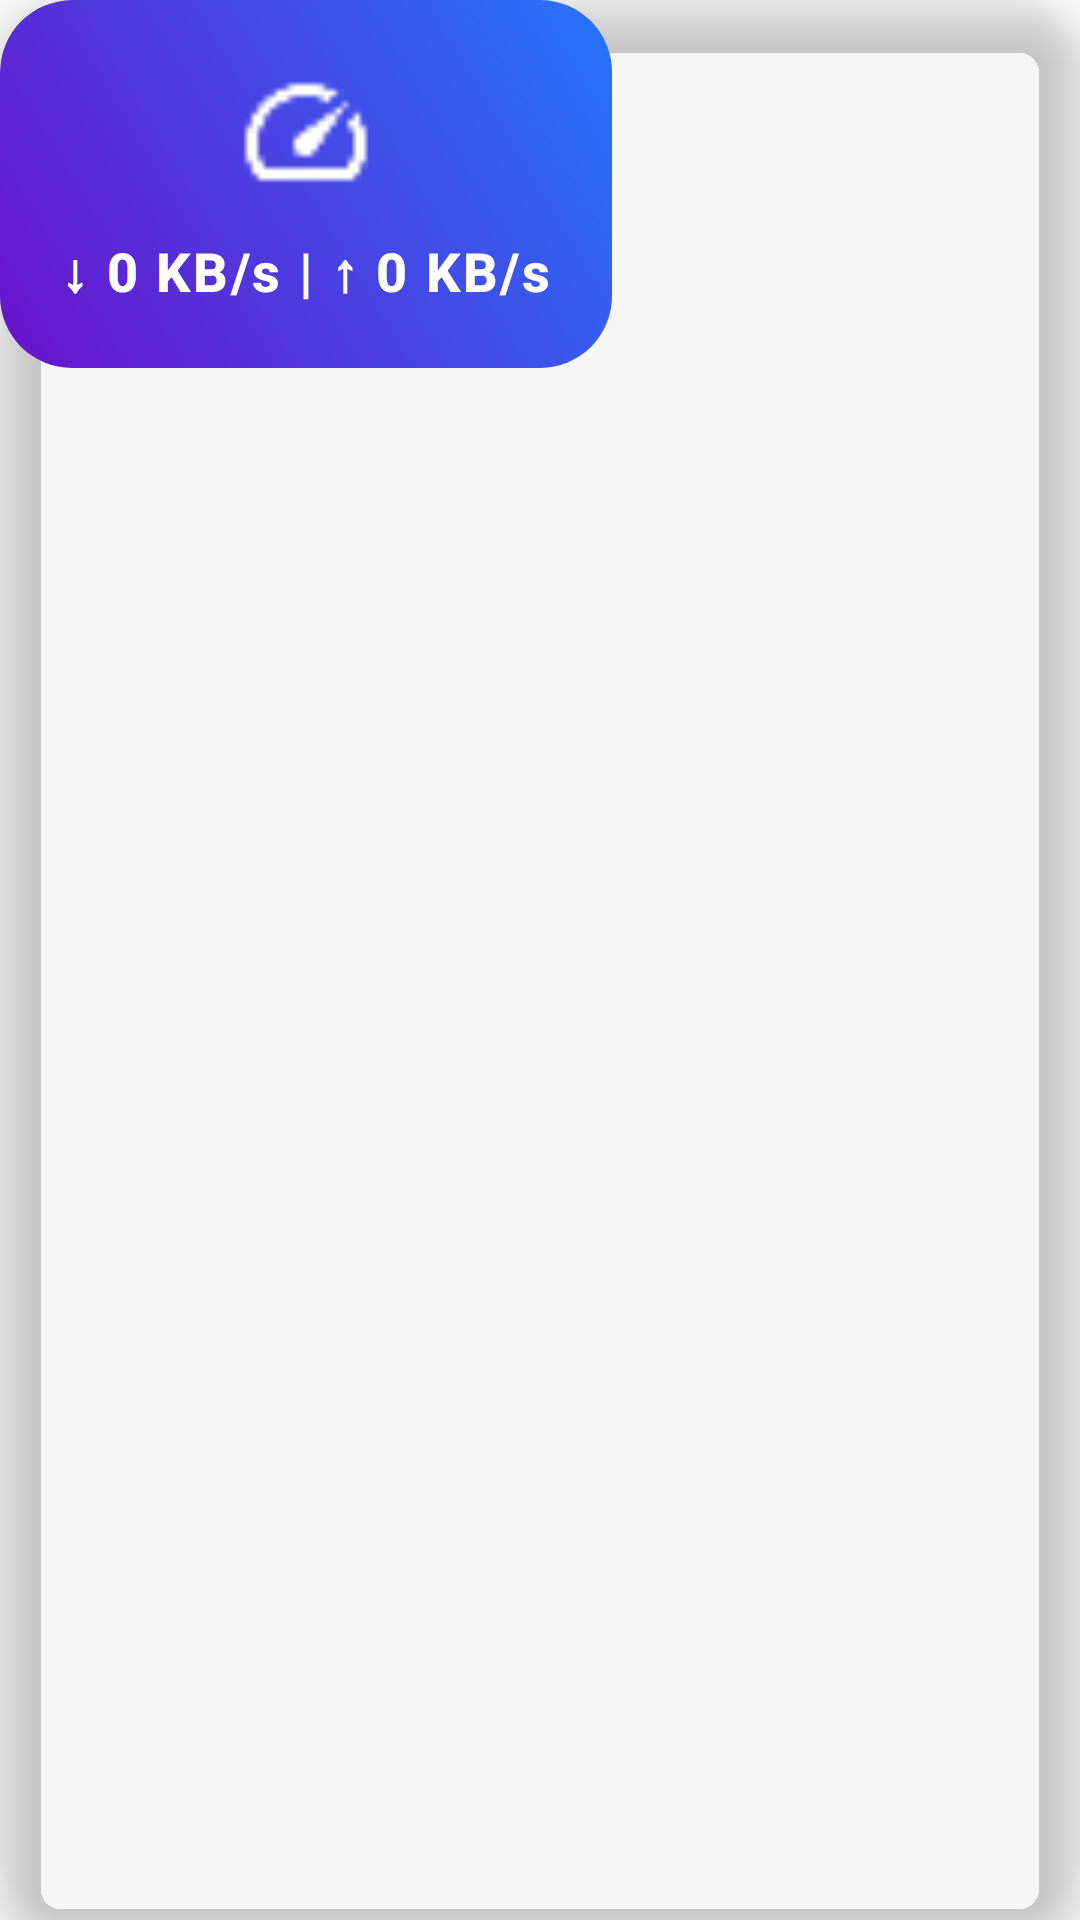

Icons on this 1080px×1920px Android screen, each with its box as (left=x1, top=y1, right=x2, bottom=y2):
speedometer: (left=243, top=82, right=368, bottom=183)
